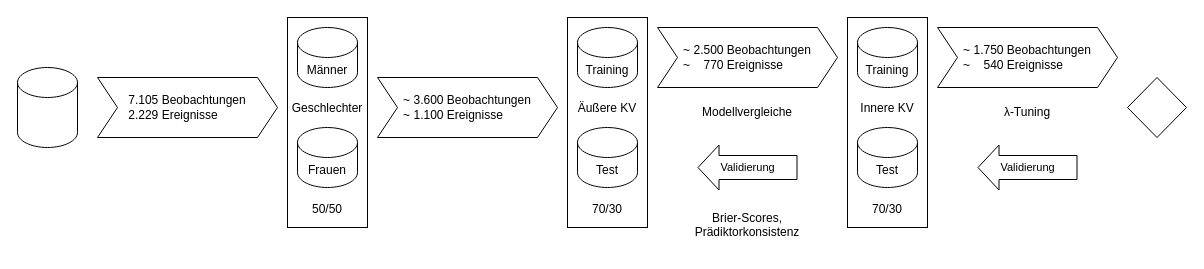
This 1204x269 diagram has some shape labels left out. Here are the shapes that lost their labels. From the top down, the centre of each, then its label:
At [47,107]: "MIDUS".
At [1156,107]: "Modell".
